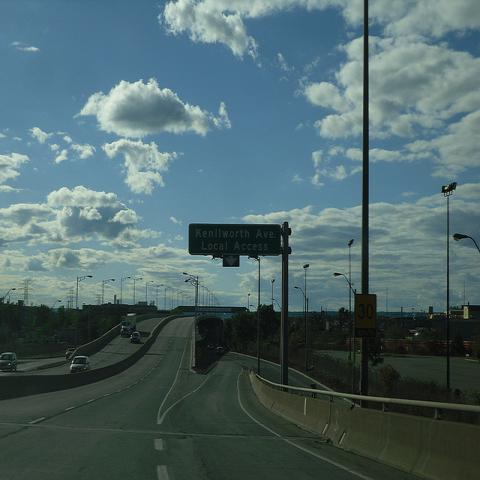car: (70, 356, 90, 373), (0, 352, 17, 372), (130, 332, 140, 343), (66, 348, 75, 359), (216, 346, 224, 354), (208, 342, 214, 348)
truck: (120, 313, 136, 337)
